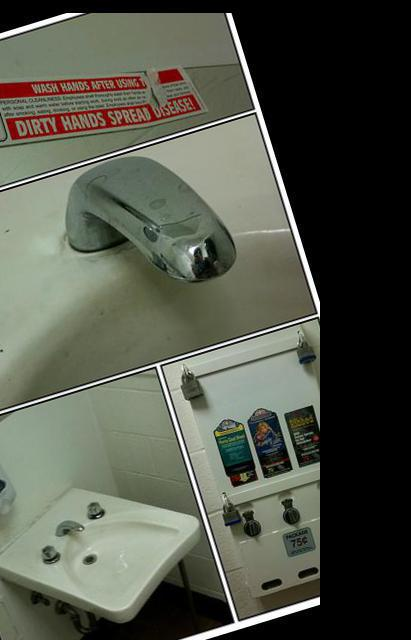Lavamanos: (0, 110, 314, 431), (0, 444, 226, 640)
